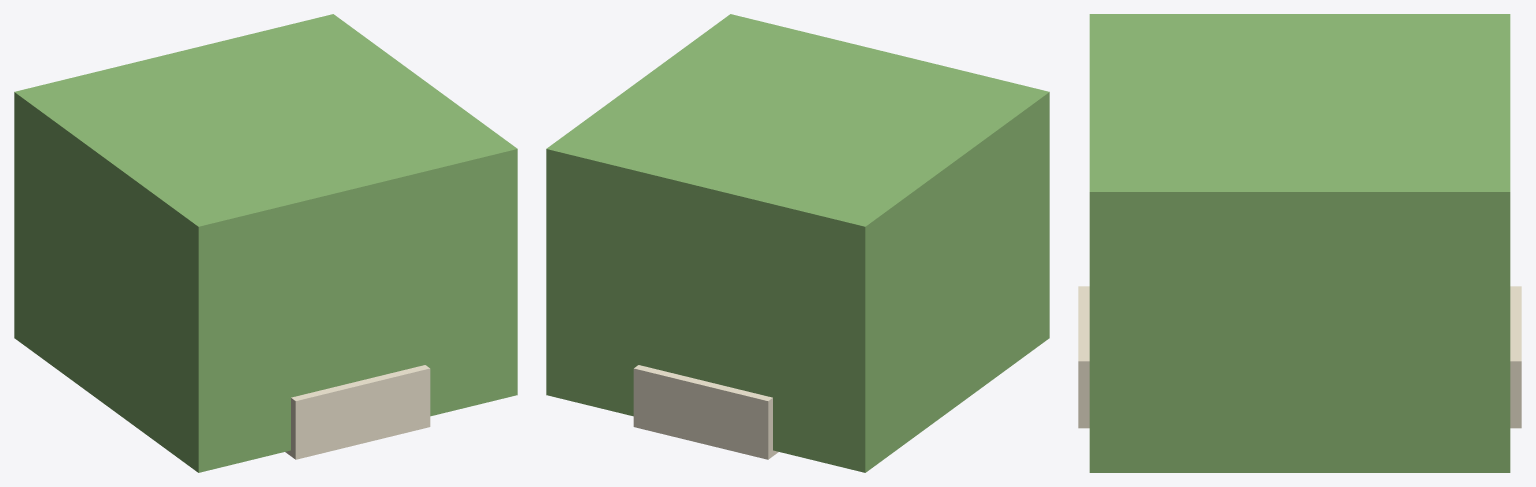
The model's file is dino_manga_inf.glb.
3 views of the same model, side by side, from view 1: azimuth 30°, elevation 25°; view 2: azimuth 150°, elevation 25°; view 3: azimuth 270°, elevation 25° (orthographic). The views are drawn at different scales.
Parts seen in each view (by area): view 1: dino_manga_inf; view 2: dino_manga_inf; view 3: dino_manga_inf.
Part boxes in pixels (box(x1,y1,x2,y2)): dino_manga_inf: box(14, 14, 517, 472); dino_manga_inf: box(546, 14, 1049, 472); dino_manga_inf: box(1078, 14, 1521, 472).
Size of the model in its own units: 0.285 by 0.215 by 0.3.
